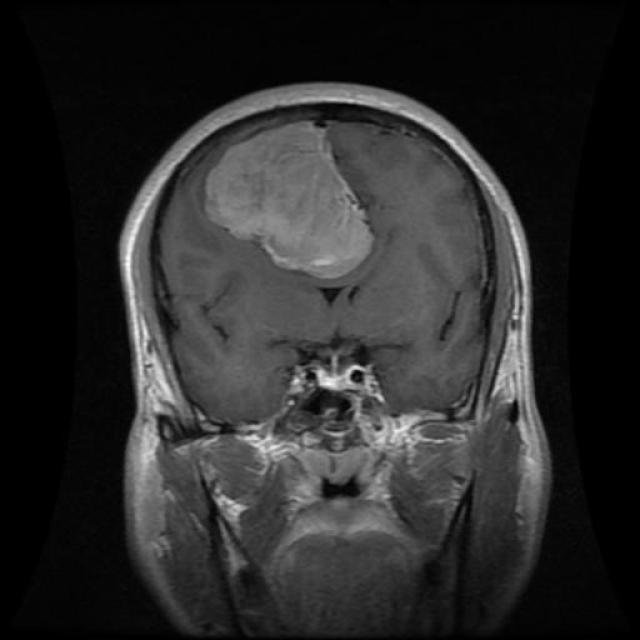Meningioma: (206, 121, 374, 279)
